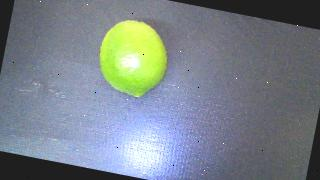EXPORTACION: (93, 15, 174, 101)
